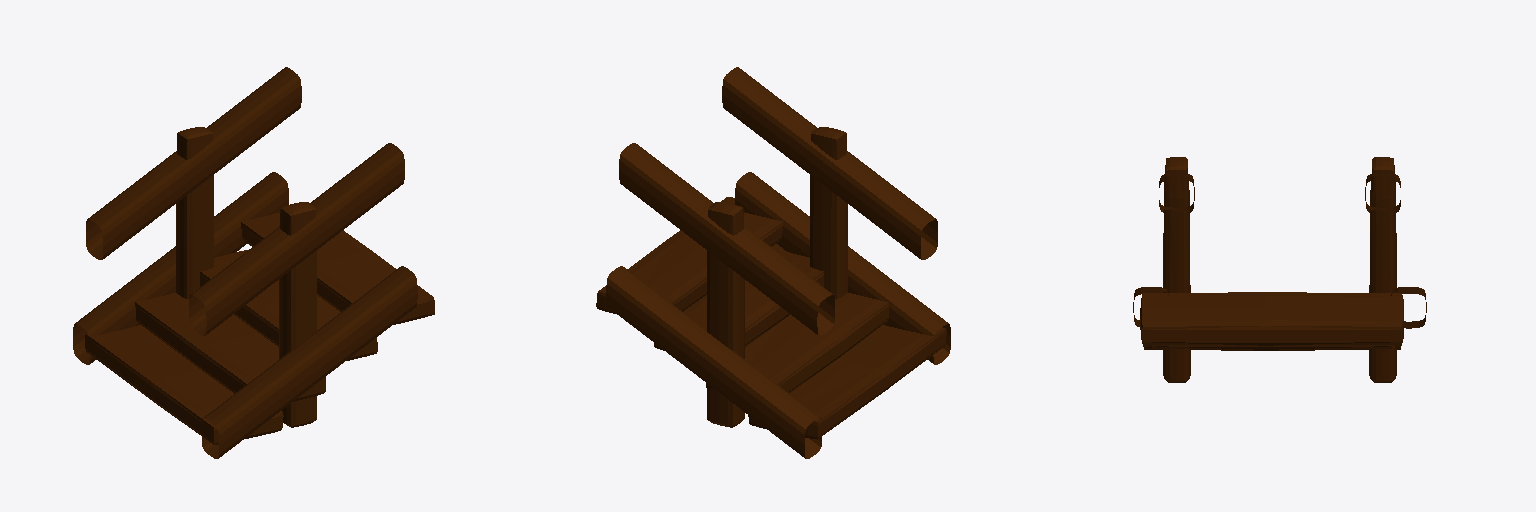
The model's file is Stairs_Modular_Middle.obj.
3 renders of one model, left to right at view 1: azimuth 30°, elevation 25°; view 2: azimuth 150°, elevation 25°; view 3: azimuth 270°, elevation 25°, orthographic.
Visible parts, largest first — view 1: Stairs_Modular_Middle_Cube.059; view 2: Stairs_Modular_Middle_Cube.059; view 3: Stairs_Modular_Middle_Cube.059.
Boxes of the visible parts, box(x1,y1,x2,y2) form: Stairs_Modular_Middle_Cube.059: box(73, 67, 434, 458); Stairs_Modular_Middle_Cube.059: box(596, 67, 950, 458); Stairs_Modular_Middle_Cube.059: box(1133, 157, 1426, 382).
Size of the model in its own units: 2.26 by 2.43 by 2.56.